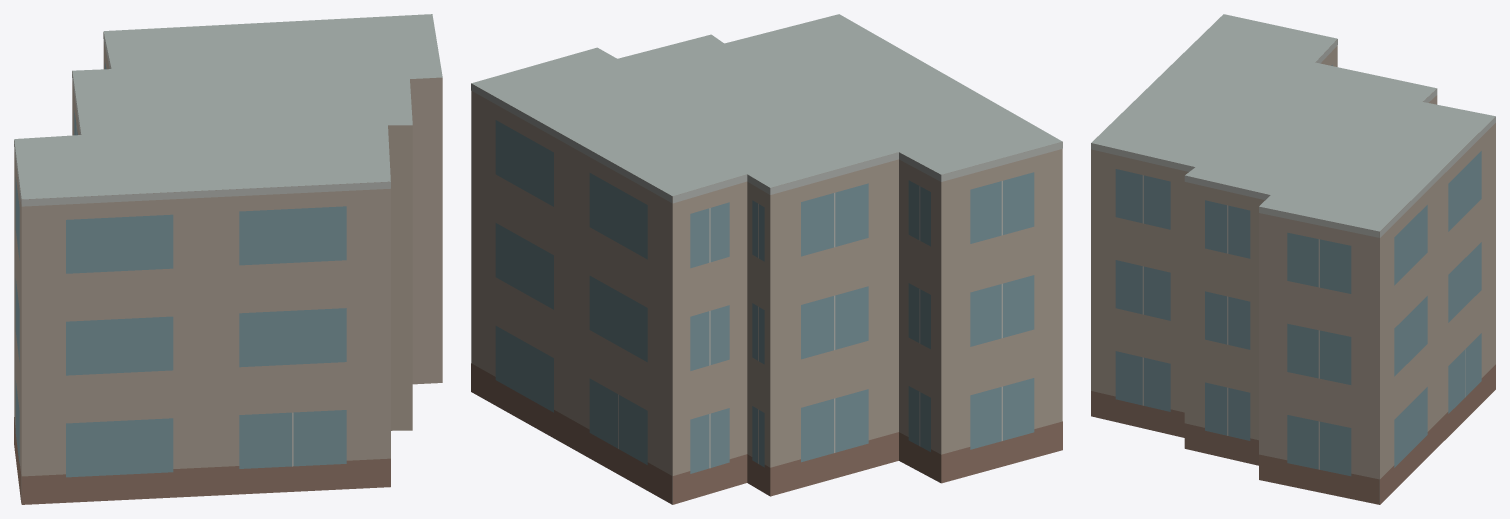
File: survey-upis-32507011.glb
The picture shows the model from 3 angles, left to right: view 1: azimuth 30°, elevation 25°; view 2: azimuth 150°, elevation 25°; view 3: azimuth 270°, elevation 25°; orthographic projection. The views are drawn at different scales.
Parts seen in each view (by area): view 1: survey-upis-32507011.tmp; view 2: survey-upis-32507011.tmp; view 3: survey-upis-32507011.tmp.
Part boxes in pixels (box(x1,y1,x2,y2)): survey-upis-32507011.tmp: box(14, 14, 442, 504); survey-upis-32507011.tmp: box(471, 14, 1062, 504); survey-upis-32507011.tmp: box(1091, 14, 1495, 504).
Bounding box in the file's own units: 17.76 × 10.4 × 13.97.
